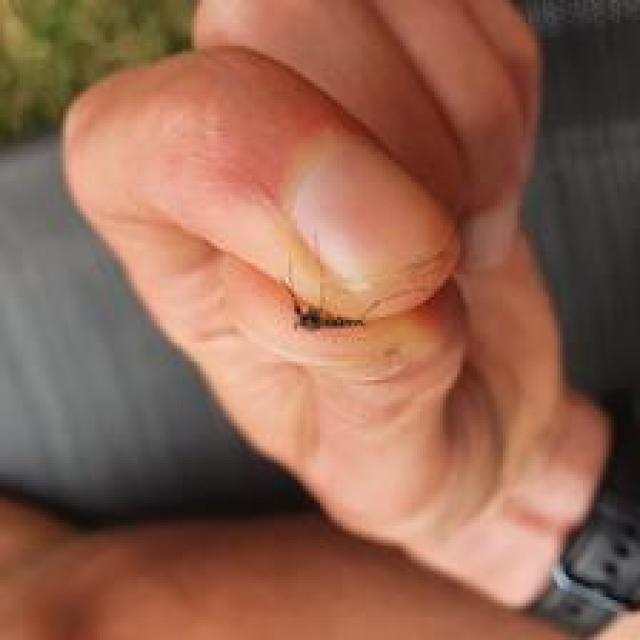Aedes albopictus: (279, 230, 367, 333)
